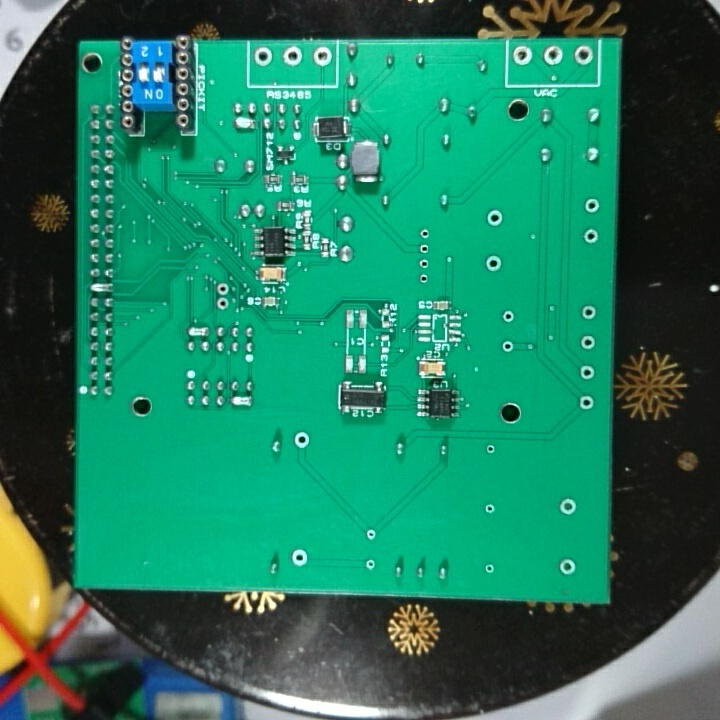F: (570, 43, 596, 69), (541, 43, 564, 68), (252, 44, 275, 68), (290, 429, 313, 452), (557, 495, 579, 519), (512, 43, 533, 68), (289, 545, 310, 569), (484, 207, 506, 229), (556, 555, 577, 577), (282, 46, 303, 67), (485, 253, 505, 275), (313, 45, 333, 66), (579, 303, 599, 323), (578, 363, 597, 383), (576, 392, 596, 411), (581, 228, 601, 246), (582, 198, 602, 215), (579, 334, 597, 352), (214, 295, 231, 314), (213, 280, 233, 296), (364, 525, 379, 545), (499, 338, 516, 354), (501, 308, 516, 325), (481, 561, 496, 577), (362, 556, 378, 571), (483, 500, 496, 518), (417, 226, 433, 240), (417, 271, 431, 286), (484, 442, 497, 458), (418, 242, 432, 255), (417, 257, 431, 270)
P: (231, 116, 257, 134), (89, 279, 115, 296), (228, 395, 254, 410), (186, 324, 210, 339)
